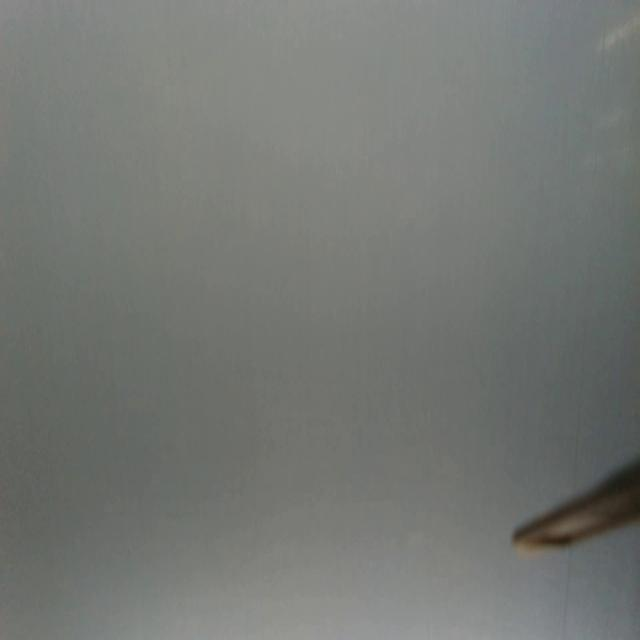crease: (571, 296, 591, 494), (555, 547, 575, 640)
